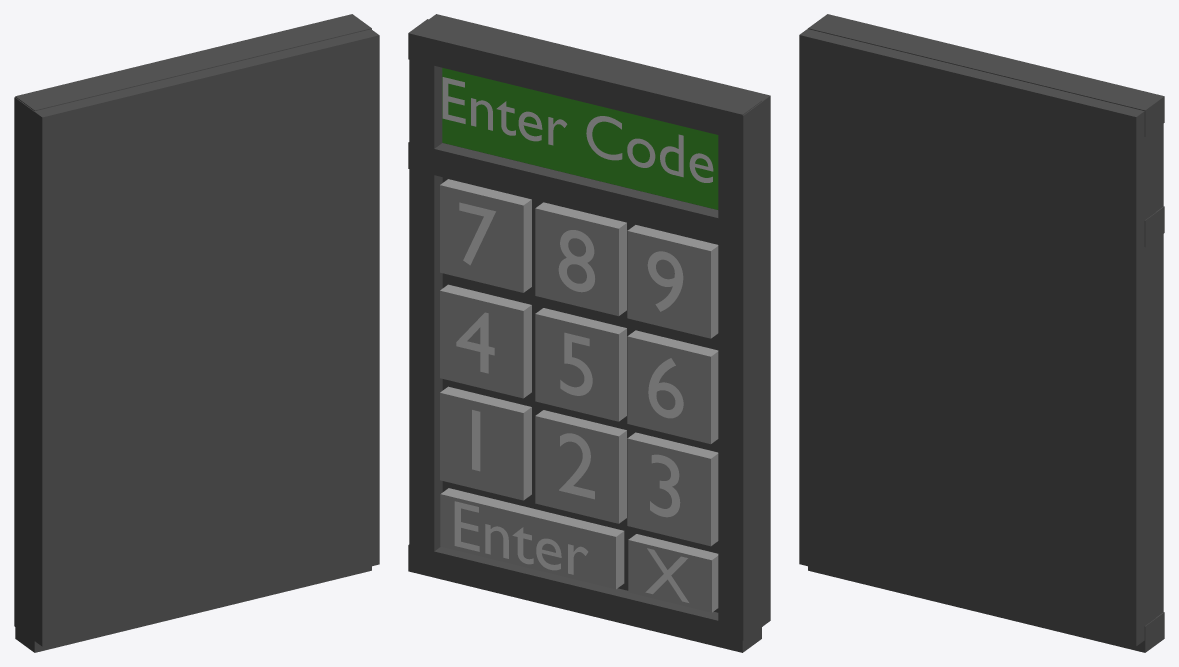
Rendered from Keypad.fbx.
3 views of the same model, side by side, from view 1: azimuth 30°, elevation 25°; view 2: azimuth 150°, elevation 25°; view 3: azimuth 330°, elevation 25° (orthographic).
Parts seen in each view (by area): view 1: Cube.030; view 2: Cube.030, Text; view 3: Cube.030.
Boxes of the visible parts, x1,y1,x2,y2 form: Cube.030: [14, 14, 379, 652]; Cube.030: [408, 14, 770, 652]; Text: [442, 77, 713, 602]; Cube.030: [799, 14, 1164, 652].
Bounding box in the file's own units: 40.09 × 61.5 × 6.16.
